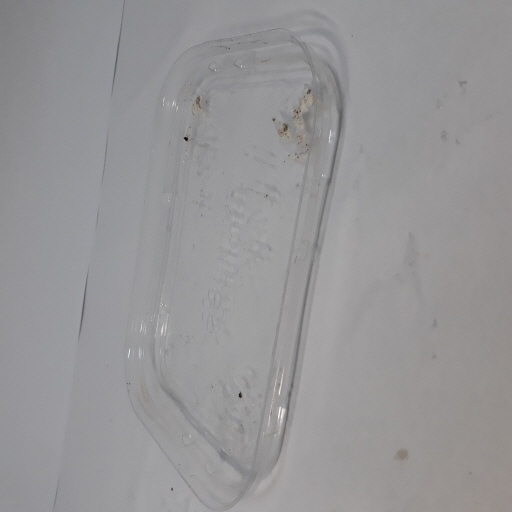Plastic_4: (121, 35, 346, 512)
